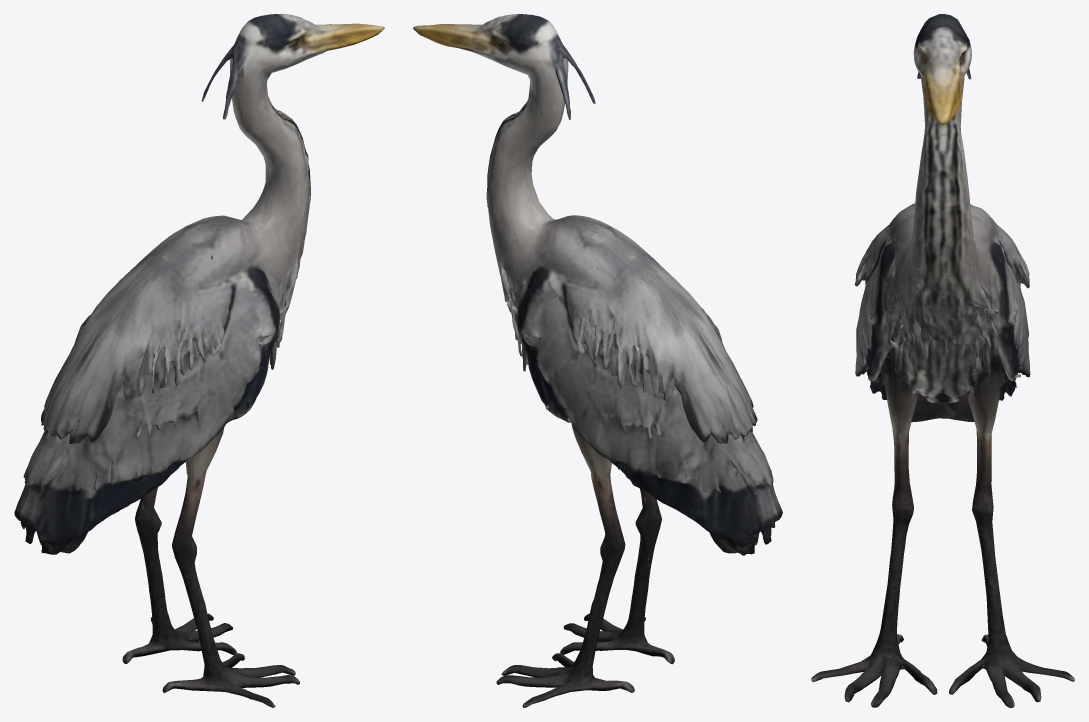
File: grey-heron-v21.glb
The picture shows the model from 3 angles, left to right: view 1: azimuth 30°, elevation 25°; view 2: azimuth 150°, elevation 25°; view 3: azimuth 270°, elevation 25°; orthographic projection. The views are drawn at different scales.
Parts seen in each view (by area): view 1: geometry_0; view 2: geometry_0; view 3: geometry_0.
Boxes of the visible parts, x1,y1,x2,y2 form: geometry_0: (14, 14, 384, 707); geometry_0: (413, 14, 782, 707); geometry_0: (811, 14, 1074, 707).
Bounding box in the file's own units: 0.6032 × 0.9989 × 0.3449.
1 material, 1 textured.
